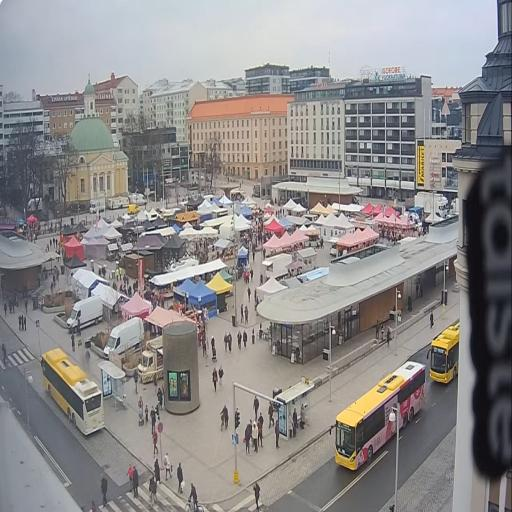Bus: (335, 361, 427, 470), (41, 348, 104, 435), (427, 321, 459, 383)
Delivery: (104, 317, 144, 359), (67, 296, 103, 334), (138, 336, 163, 383)
